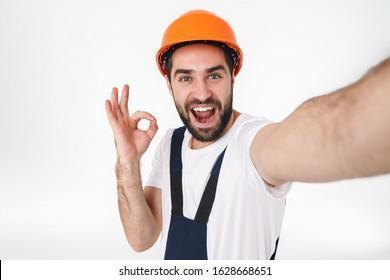helmet: (156, 9, 244, 76)
